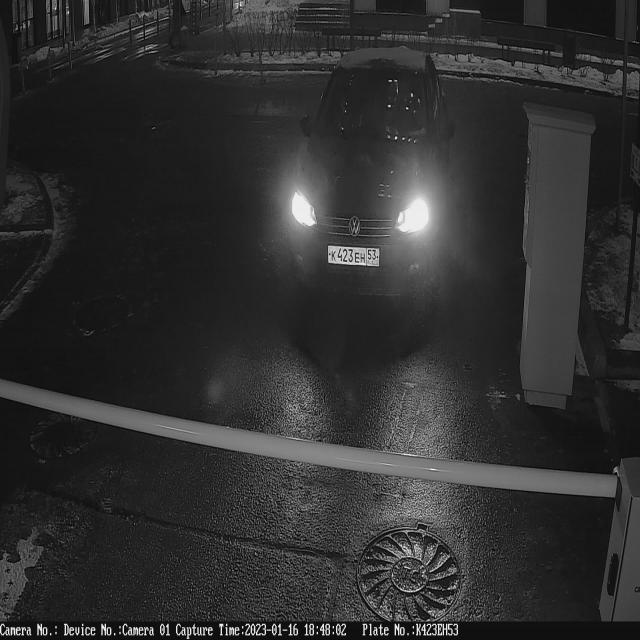car-plate-numbers: (324, 239, 385, 274)
